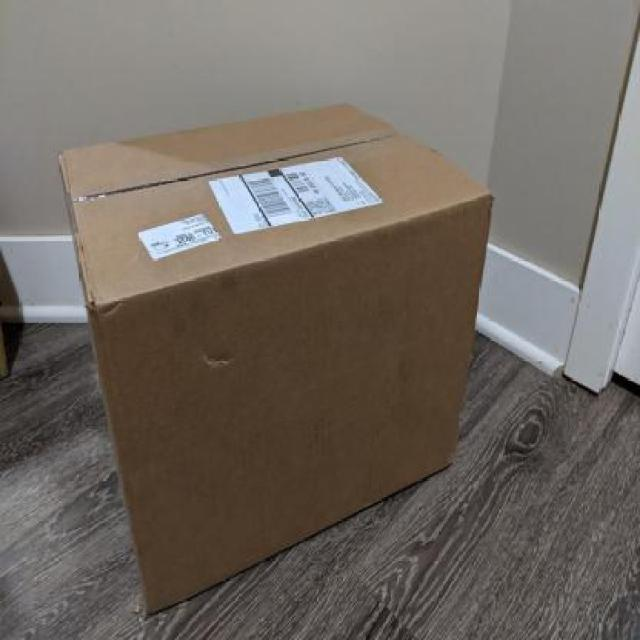cardboxes: (53, 99, 498, 618)
